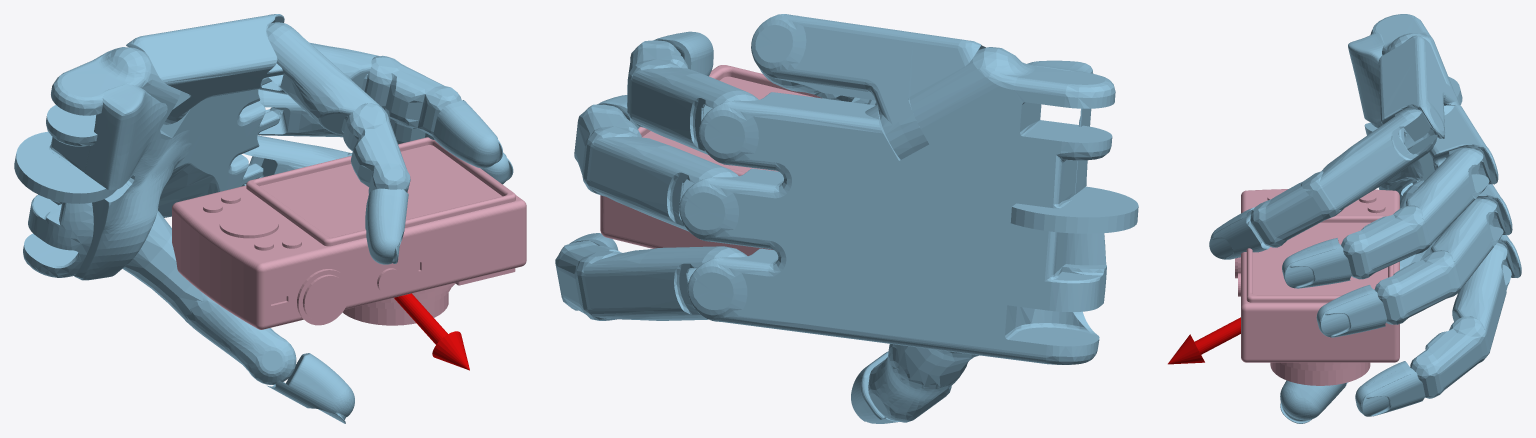
3 views of the same model, side by side, from view 1: azimuth 30°, elevation 25°; view 2: azimuth 150°, elevation 25°; view 3: azimuth 270°, elevation 25° (orthographic). The views are drawn at different scales.
Visible parts, largest first — view 1: world, camera.stl; view 2: world, camera.stl; view 3: world, camera.stl.
Boxes of the visible parts, left/top/right/bottom form: world: left=14, top=14, right=513, bottom=423; camera.stl: left=172, top=137, right=526, bottom=329; world: left=555, top=14, right=1138, bottom=423; camera.stl: left=600, top=65, right=821, bottom=255; world: left=1168, top=14, right=1521, bottom=423; camera.stl: left=1235, top=189, right=1399, bottom=385.
Size of the model in its own units: 0.1848 by 0.1471 by 0.1442.
